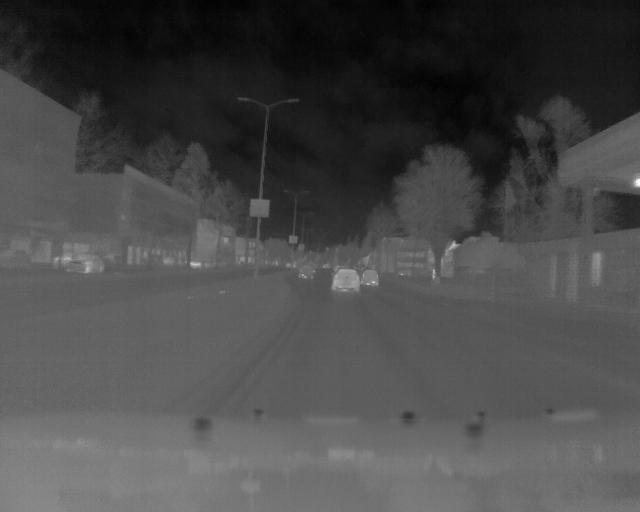car: (328, 266, 361, 294), (67, 251, 107, 274), (359, 267, 381, 289), (297, 264, 315, 280)
